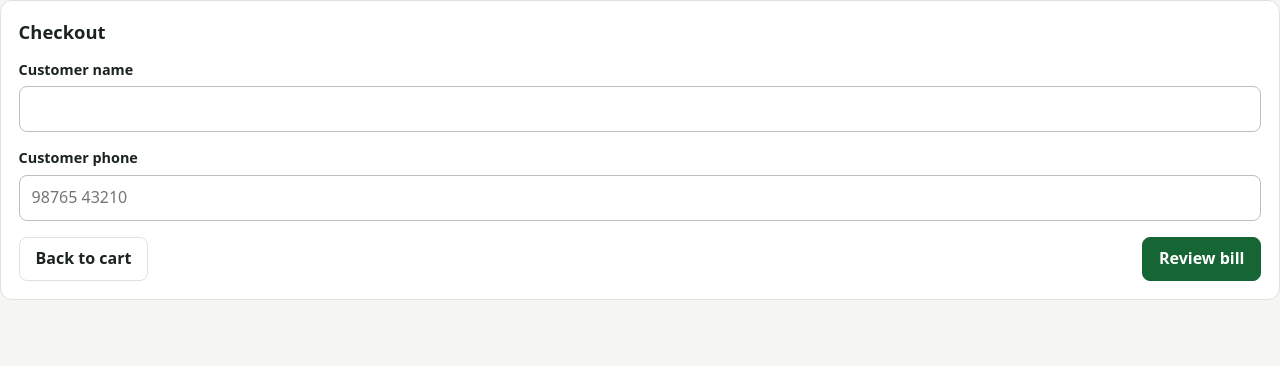
Test: CheckoutForm › shows validation errors and does not advance
This screenshot has width=1280, height=366.
Step 1. Click the button "Review bill" → [1202, 259], box [1142,236,1262,281]
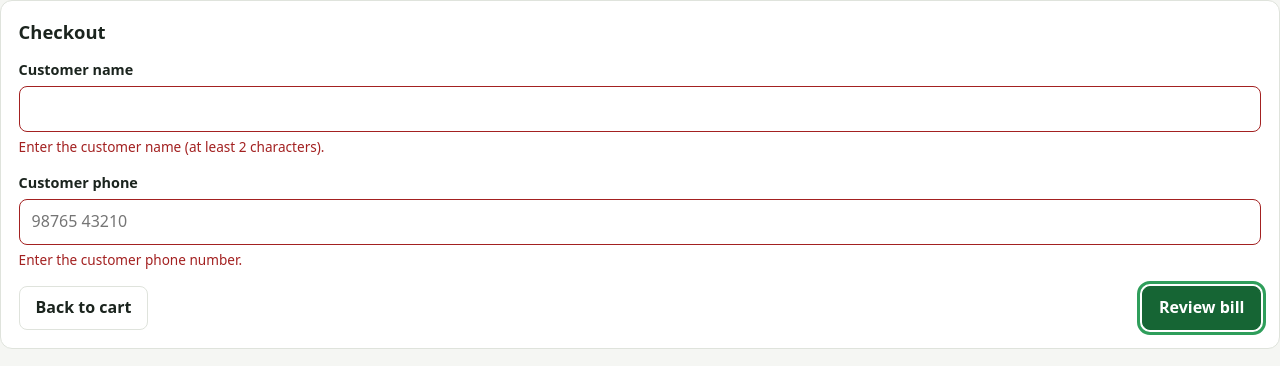
Now the number of messages is 2, box [19,137,324,156]; [19,250,242,269]
